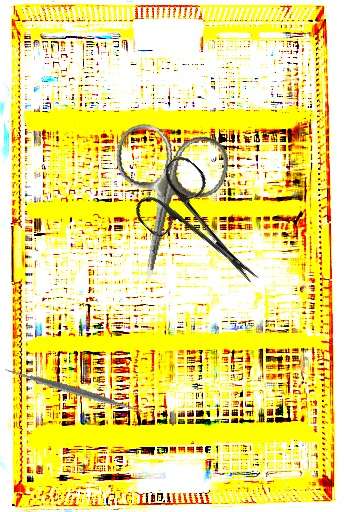Iris Scissors: (125, 151, 285, 308), (91, 118, 235, 292)
Spatula Surgical: (2, 319, 146, 463)
